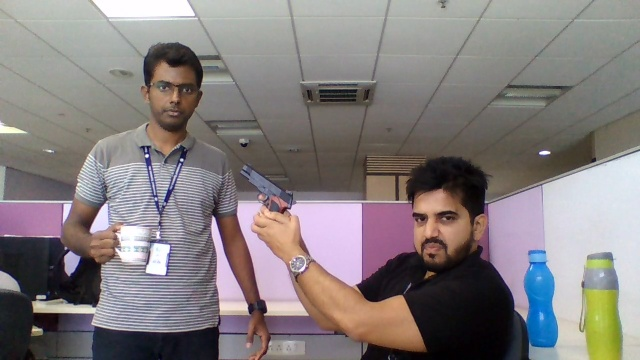gun: (240, 163, 296, 208)
